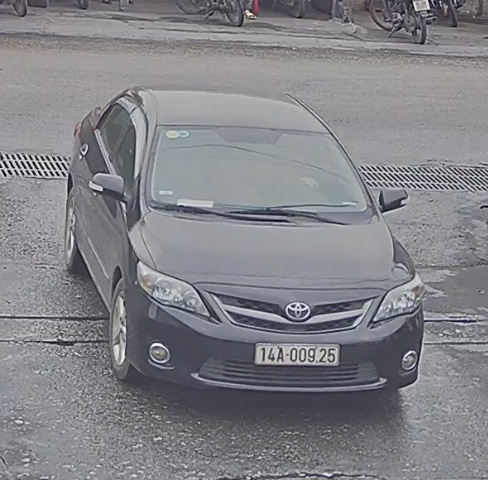vehicle plate: (252, 340, 342, 370)
